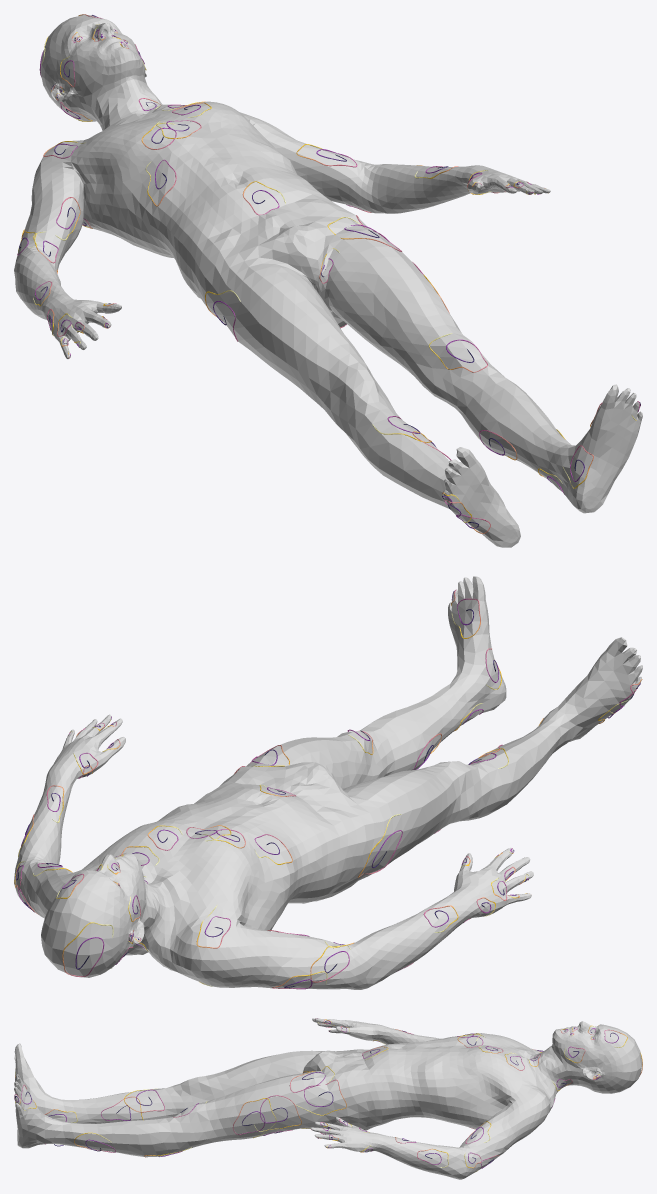
The model's file is body_ours_l2_spiral.glb.
The picture shows the model from 3 angles, top to bottom: view 1: azimuth 30°, elevation 25°; view 2: azimuth 150°, elevation 25°; view 3: azimuth 270°, elevation 25°; orthographic projection. The views are drawn at different scales.
Parts seen in each view (by area): view 1: imagetostl_mesh0; view 2: imagetostl_mesh0; view 3: imagetostl_mesh0.
Boxes of the visible parts, x1=… form: imagetostl_mesh0: x1=14, y1=14, x2=642, y2=547; imagetostl_mesh0: x1=14, y1=576, x2=642, y2=989; imagetostl_mesh0: x1=14, y1=1018, x2=642, y2=1179.
Size of the model in its own units: 1 by 0.3865 by 1.78.
